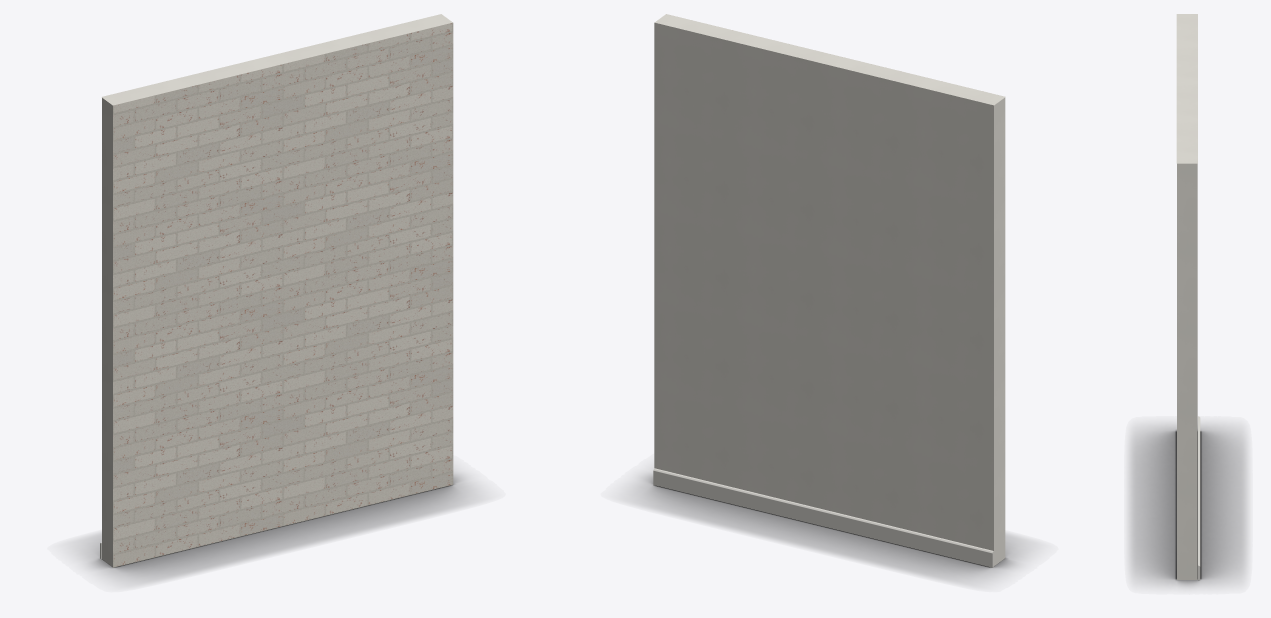
Rendered from wall_whitebrick.glb.
3 views of the same model, side by side, from view 1: azimuth 30°, elevation 25°; view 2: azimuth 150°, elevation 25°; view 3: azimuth 270°, elevation 25° (orthographic). The views are drawn at different scales.
Visible parts, largest first — view 1: wall_whitebrick_LOD0, wall_whitebrick_Shadow; view 2: wall_whitebrick_LOD0, wall_whitebrick_Shadow; view 3: wall_whitebrick_Shadow, wall_whitebrick_LOD0.
Part boxes in pixels (x1=…): wall_whitebrick_LOD0: x1=100, y1=14, x2=453, y2=567; wall_whitebrick_Shadow: x1=81, y1=473, x2=472, y2=582; wall_whitebrick_LOD0: x1=653, y1=14, x2=1005, y2=567; wall_whitebrick_Shadow: x1=634, y1=473, x2=1025, y2=581; wall_whitebrick_Shadow: x1=1130, y1=425, x2=1245, y2=586; wall_whitebrick_LOD0: x1=1176, y1=14, x2=1200, y2=580.
Size of what is drawn, in the model's own units: 2.64 by 2.6 by 0.774.
4 materials, 3 textured.
